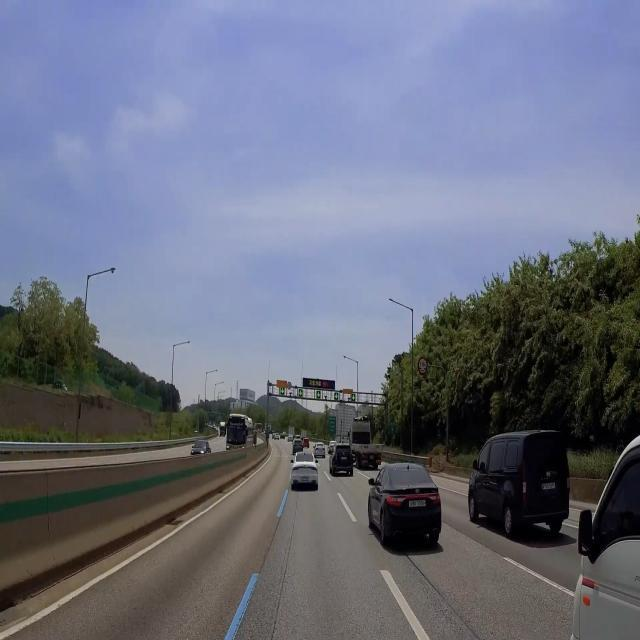car: (407, 496, 428, 512), (541, 477, 557, 494), (299, 473, 310, 485), (339, 454, 349, 465), (368, 454, 378, 462)
